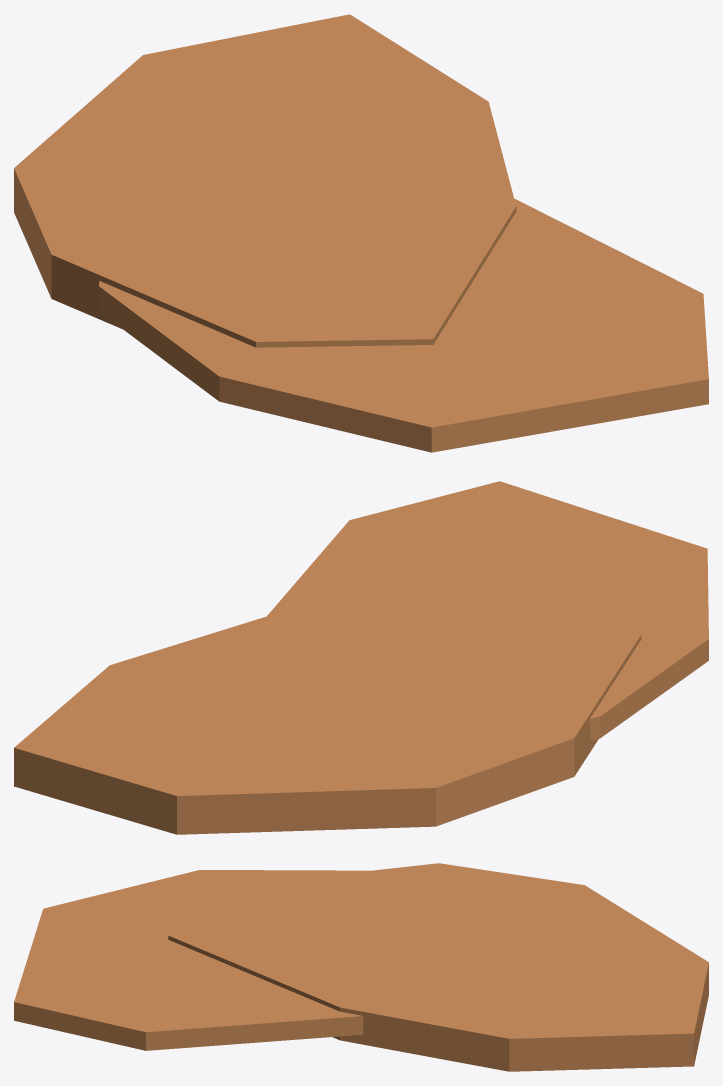
The model's file is SandRocks8_LOD1.fbx.
3 renders of one model, top to bottom at view 1: azimuth 30°, elevation 25°; view 2: azimuth 150°, elevation 25°; view 3: azimuth 270°, elevation 25°, orthographic. The views are drawn at different scales.
Visible parts, largest first — view 1: 8; view 2: 8; view 3: 8.
Part boxes in pixels (<box>): 8: <box>14,14,708,452</box>; 8: <box>14,481,708,834</box>; 8: <box>14,863,708,1071</box>.
Size of the model in its own units: 182 by 15.87 by 304.
